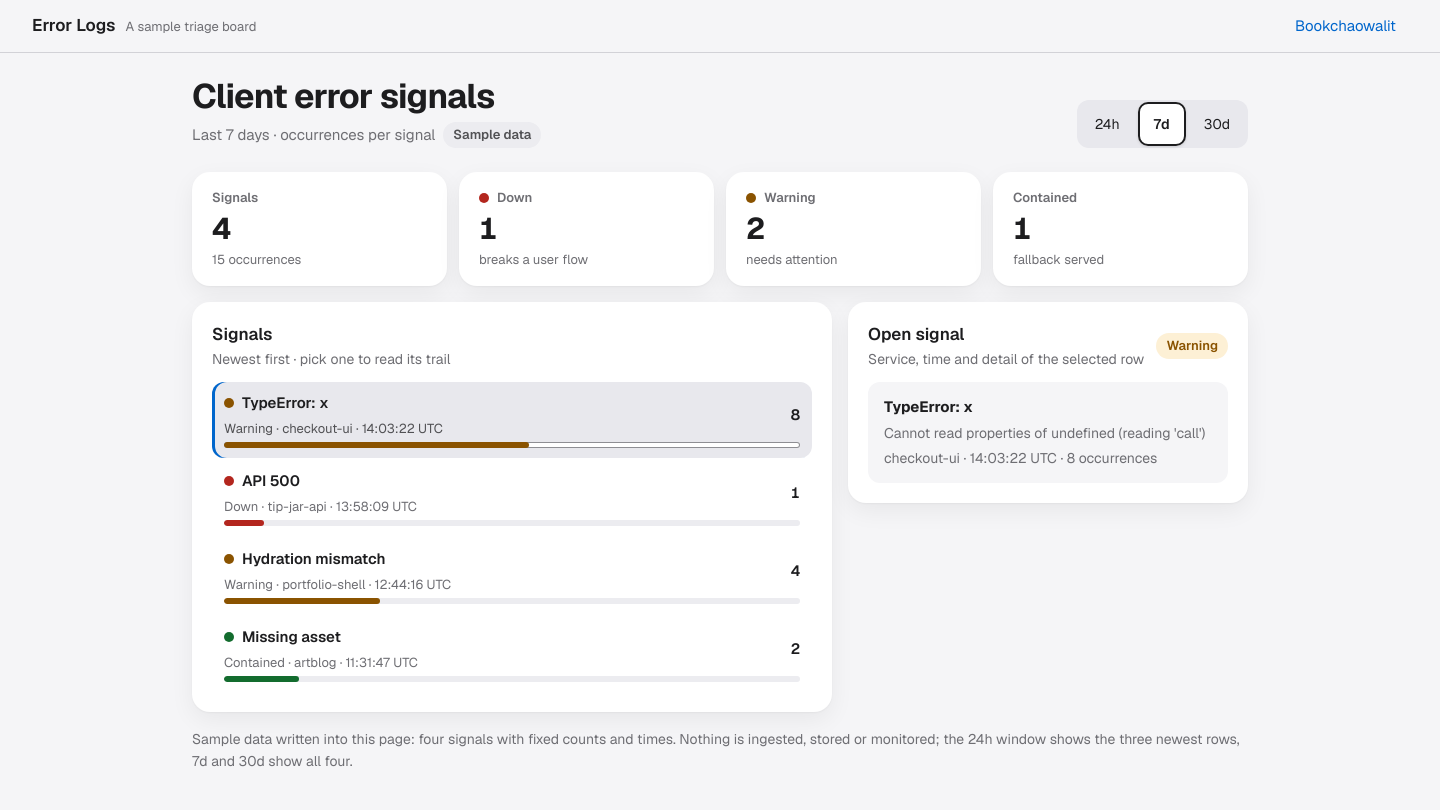
error board › selects a row, marks it pressed and opens it with the matching status pill
Step 1. Click the button with class "ds-row" that starts with "Missing asset" → (291, 637), box x1=212 y1=616 x2=812 y2=692
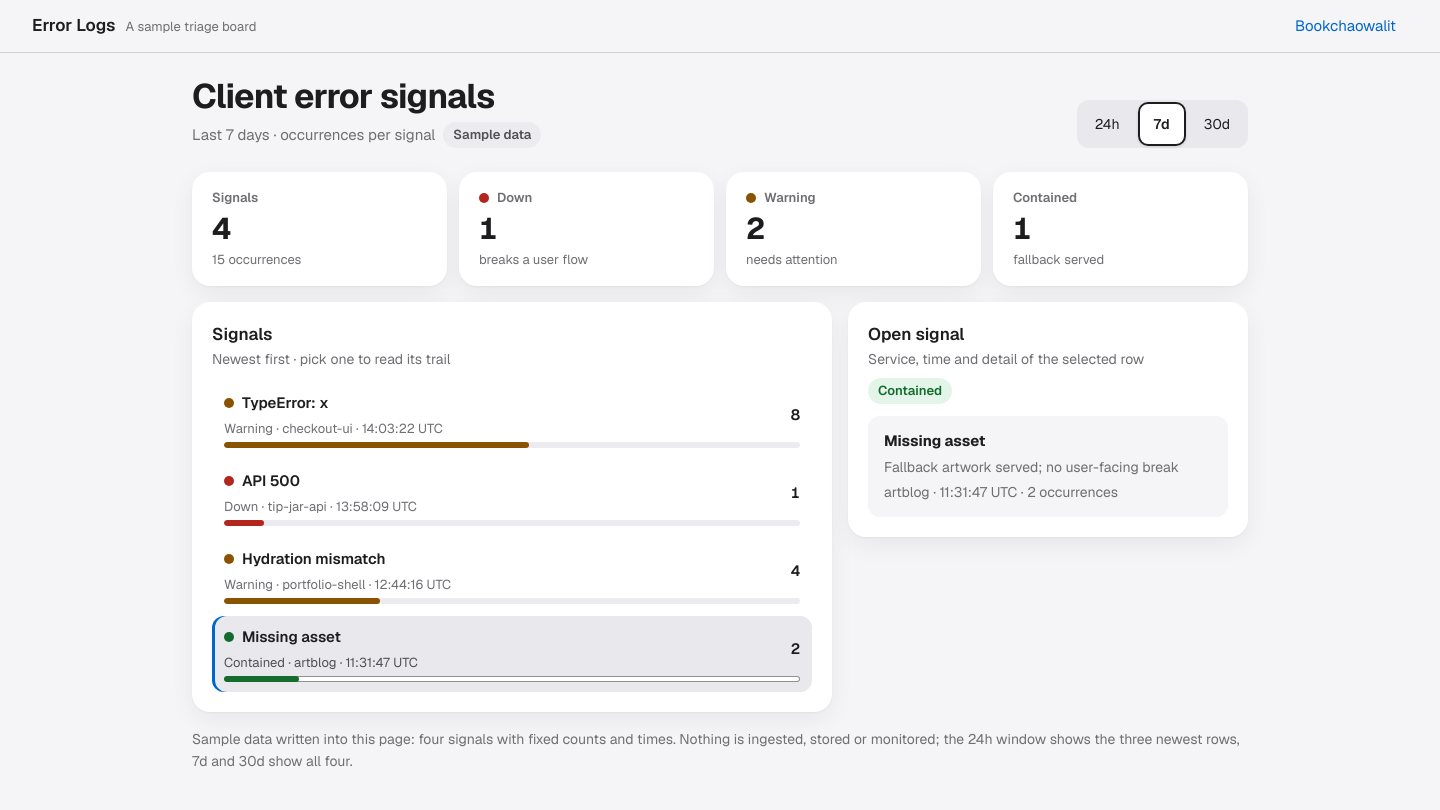
Expected: the element with class "ds-callout" shows "Fallback artwork served; no user-facing break", x1=884 y1=458 x2=1179 y2=476
Expected: the text with class "ds-pill" below "Open signal" reads "Contained", x1=878 y1=382 x2=942 y2=399
